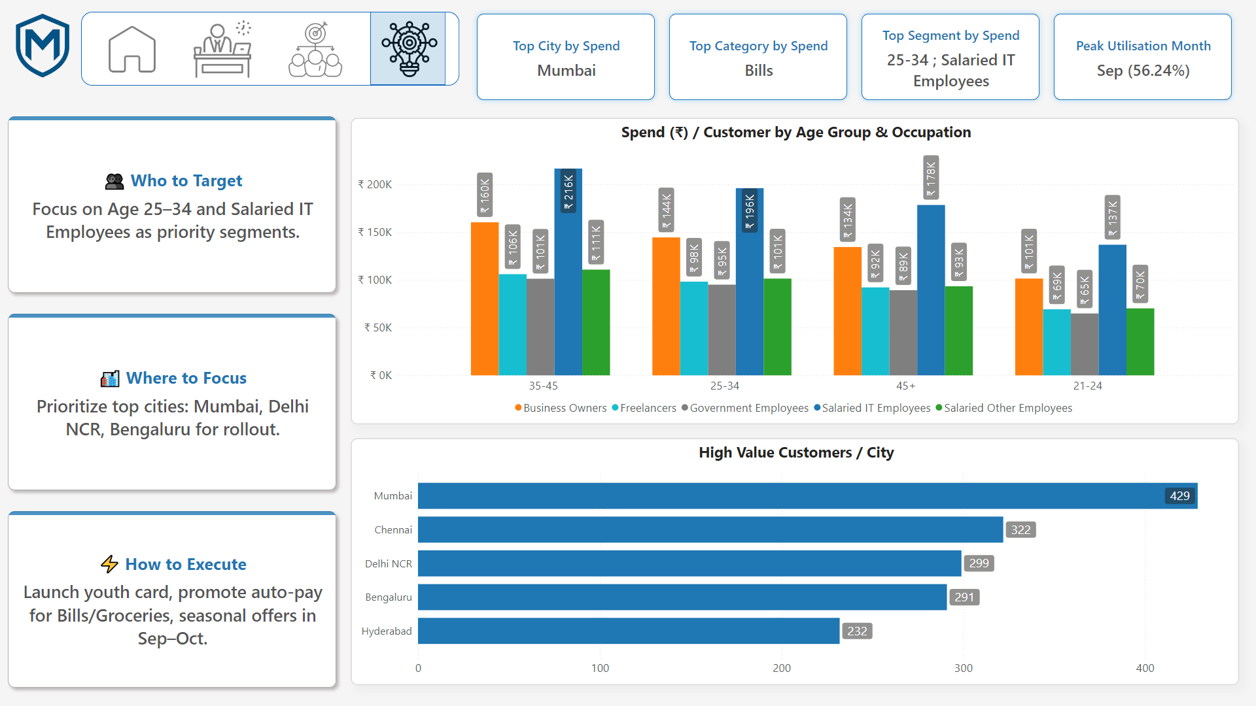

The dashboard page shown, as its layout file describes it:
{"tool":"powerbi","page":{"name":"Strategic Insights & Recommendations","canvas":[1920,1080],"ordinal":3},"visuals":[{"type":"image","box":[8.7,13,113,110.9],"z":0},{"type":"shape","box":[124.1,17.4,578.3,113],"z":0,"group":"g5"},{"type":"image","box":[288.2,25.1,104.3,97.8],"z":0,"group":"g3"},{"type":"image","box":[150.2,25.6,104.3,97.8],"z":0,"group":"g2"},{"type":"image","box":[430.6,25.6,104.3,97.8],"z":0,"group":"g4"},{"type":"image","box":[574.1,25.6,104.3,97.8],"z":0,"group":"g1"},{"type":"shape","box":[566,17.4,115.2,112],"z":500,"group":"g1"},{"type":"actionButton","box":[286.7,25.1,104.3,97.8],"z":500,"group":"g3"},{"type":"actionButton","box":[430,25.6,104.3,97.8],"z":500,"group":"g4"},{"type":"cardVisual","fields":{"Data":["Key_Measures.Top City by Spend","Key_Measures.Top Category by Spend","Key_Measures.Top Segment by Spend","Key_Measures.Peak Utilisation Month"]},"box":[717.4,10.9,1178.3,154.3],"z":1000},{"type":"group","id":"g1","title":"Insights","box":[566,17.4,115.2,112],"z":1000,"group":"g5"},{"type":"actionButton","box":[150.2,26.1,104.3,97.8],"z":1000,"group":"g2"},{"type":"group","id":"g2","title":"Home","box":[150.2,25.6,104.3,98.4],"z":2000,"group":"g5"},{"type":"clusteredBarChart","title":"High Value Customers / City","fields":{"Category":["dim_customers.city"],"Y":["Key_Measures.High Value Customers"]},"box":[537,669.6,1358.7,378.3],"z":2000},{"type":"group","id":"g3","title":"Executive","box":[286.7,25.1,105.8,97.8],"z":3000,"group":"g5"},{"type":"clusteredColumnChart","title":"Spend (₹) / Customer by Age Group & Occupation","fields":{"Category":["dim_customers.age_group"],"Series":["dim_customers.occupation"],"Y":["Key_Measures.Spend per Customer"]},"box":[537,180.4,1358.7,469.6],"z":3000},{"type":"group","id":"g4","title":"Customer","box":[430,25.6,104.9,97.8],"z":4000,"group":"g5"},{"type":"cardVisual","fields":{"Data":["Key_Measures.Rec_WhoToTarget","Key_Measures.Rec_WhereToFocus","Key_Measures.Rec_HowToExecute"]},"box":[0,165.2,526.1,900],"z":4000},{"type":"group","id":"g5","title":"Nav Bar","box":[124.1,17.4,578.3,113],"z":5000}]}

Visuals, with their boxes in screenshot pixels (x1, y1, x2, y2), scaled from the page's 1920x1080 canvas onto the 1256x719 screenshot:
image: (6,9,80,82)
shape: (81,12,459,87)
image: (189,17,257,82)
image: (98,17,166,82)
image: (282,17,350,82)
image: (376,17,444,82)
shape: (370,12,446,86)
actionButton: (188,17,256,82)
actionButton: (281,17,350,82)
cardVisual - Key_Measures.Top City by Spend x Key_Measures.Top Category by Spend: (469,7,1240,110)
"Insights" group: (370,12,446,86)
actionButton: (98,17,166,82)
"Home" group: (98,17,166,83)
"High Value Customers / City" clusteredBarChart: (351,446,1240,698)
"Executive" group: (188,17,257,82)
"Spend (₹) / Customer by Age Group & Occupation" clusteredColumnChart: (351,120,1240,433)
"Customer" group: (281,17,350,82)
cardVisual - Key_Measures.Rec_WhoToTarget x Key_Measures.Rec_WhereToFocus: (0,110,344,709)
"Nav Bar" group: (81,12,459,87)
